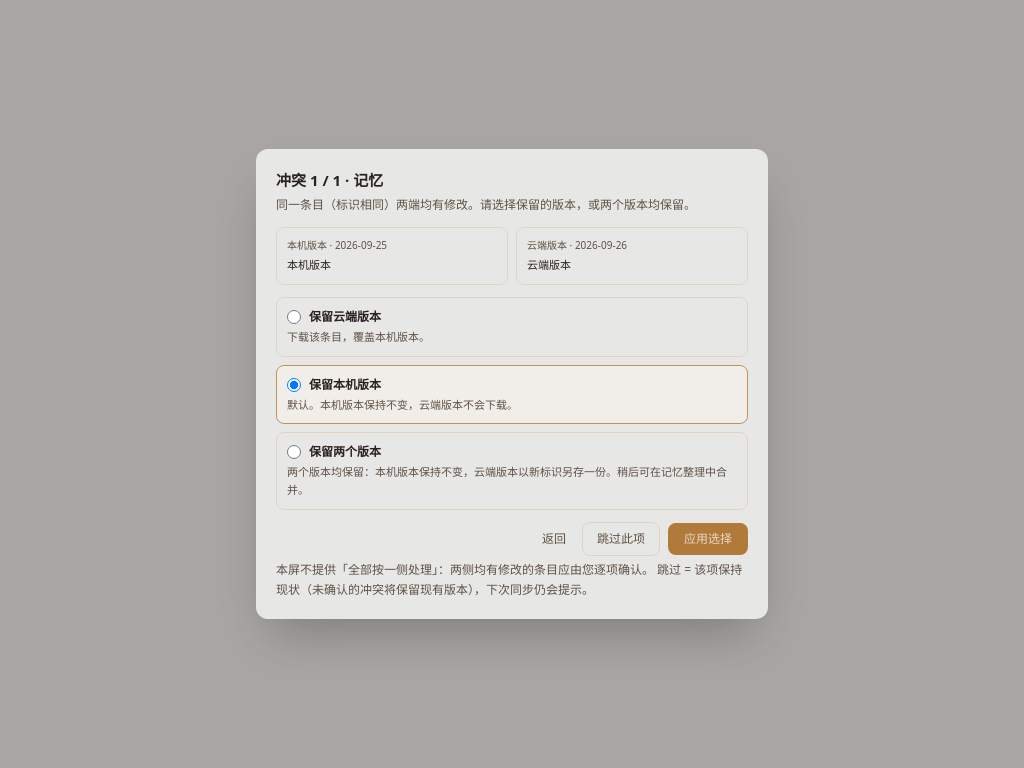
Test: SyncWizard › 对账模式：一个选择两端各搬各的（apply 与 pull 各一发）
Expected: the heading "冲突 1 / 1 · 记忆" is shown, [276,170,383,190]
Click the text "保留两个版本" at (345, 452), box [309,443,381,461]
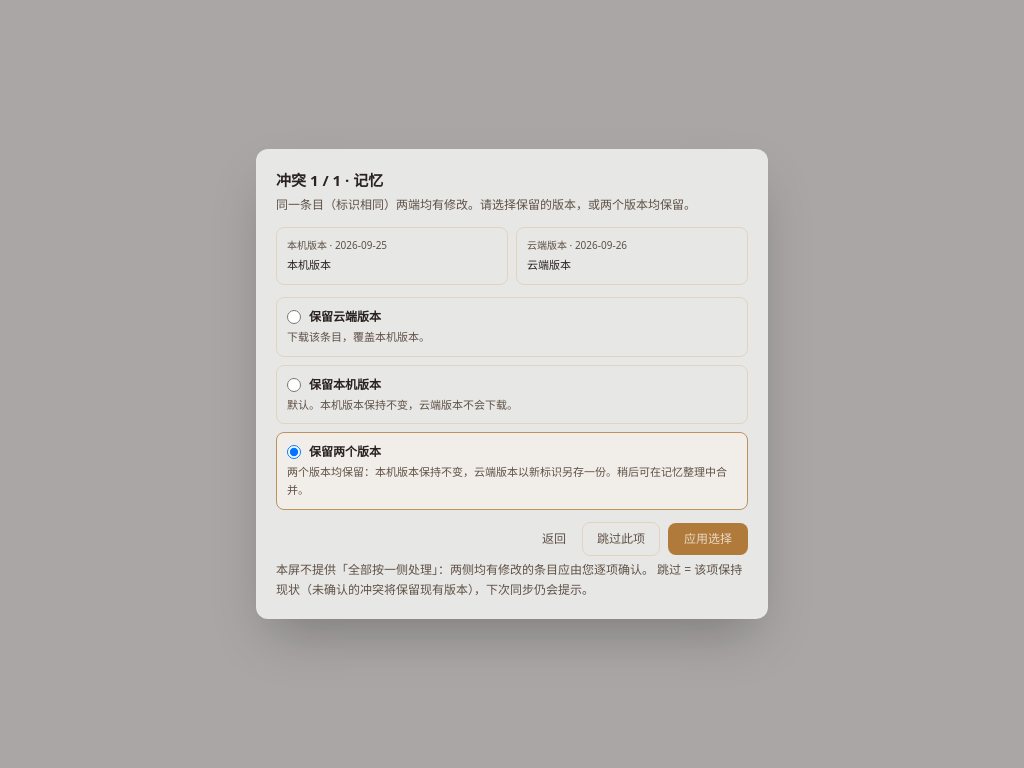
Click the button "应用选择" at (708, 539), box [668,523,748,555]
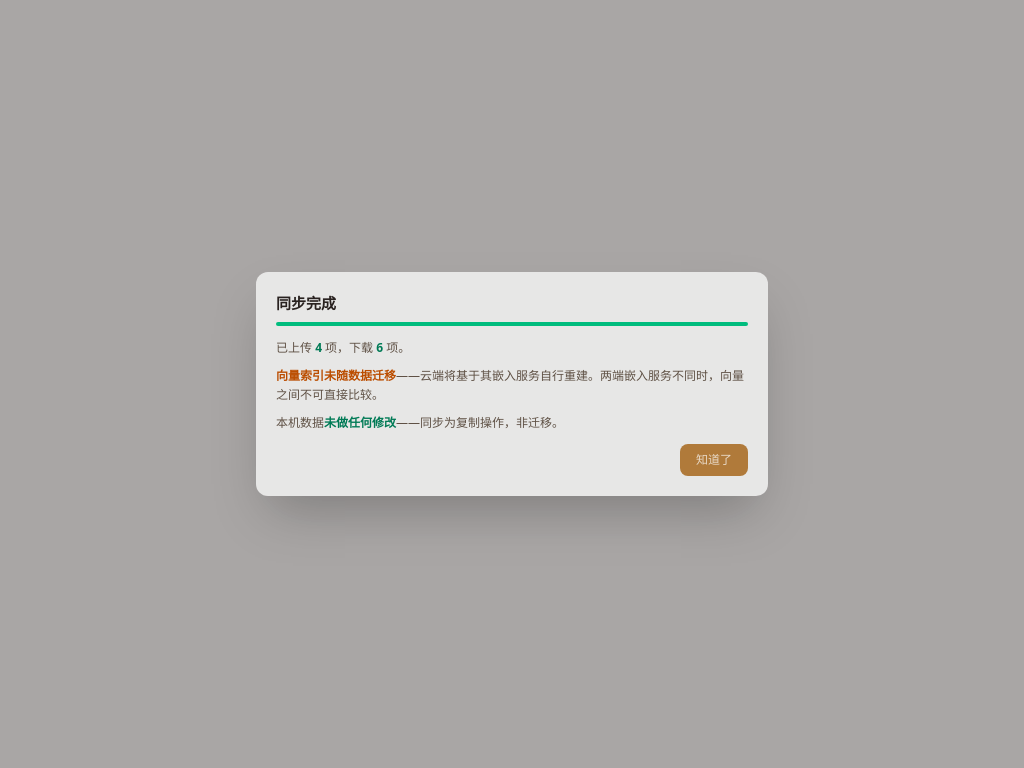
Expected: the dialog shows "已上传 4 项，下载 6 项"
